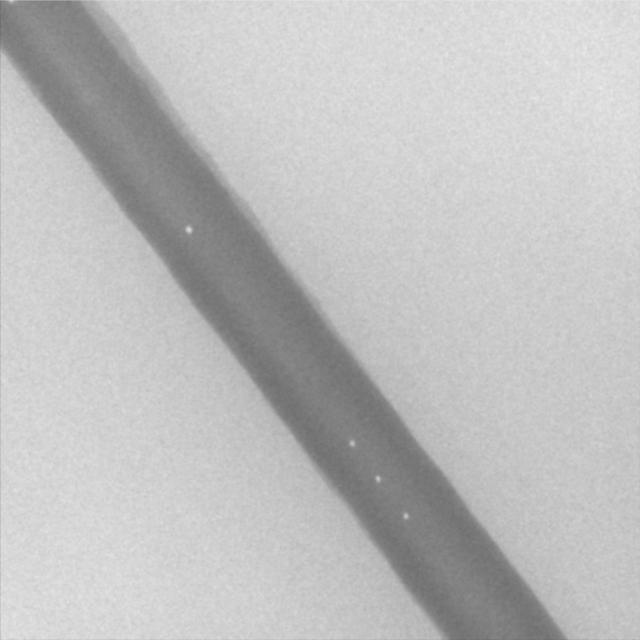air hole: (182, 224, 193, 236), (347, 437, 355, 447), (401, 511, 409, 521), (374, 474, 381, 484)
